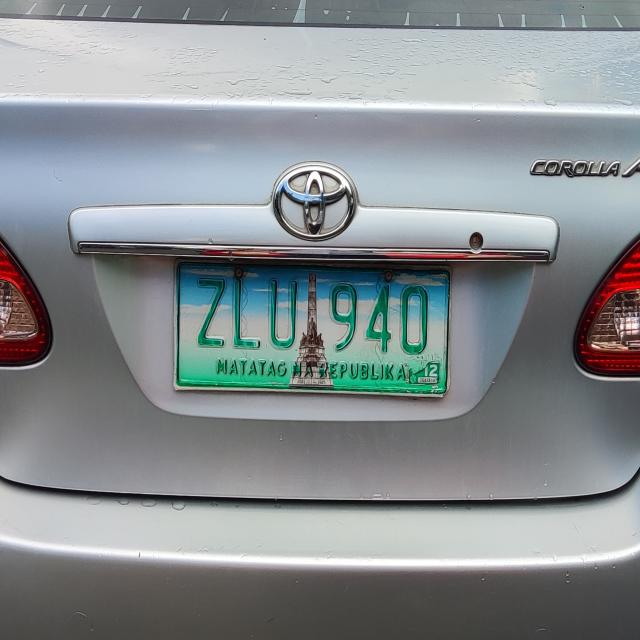plate: (169, 245, 455, 408)
